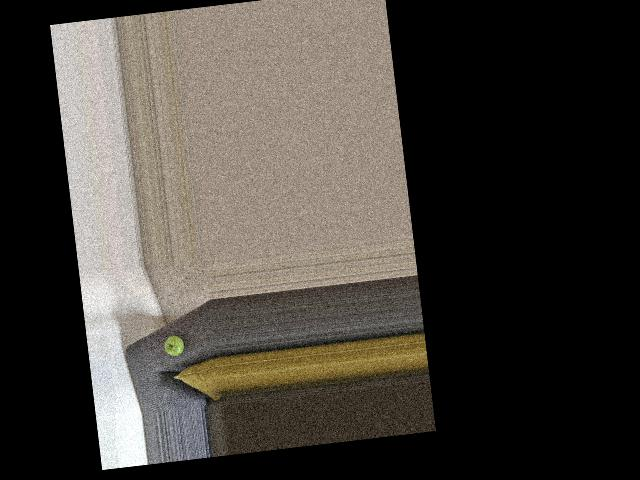apple: (162, 334, 187, 358)
